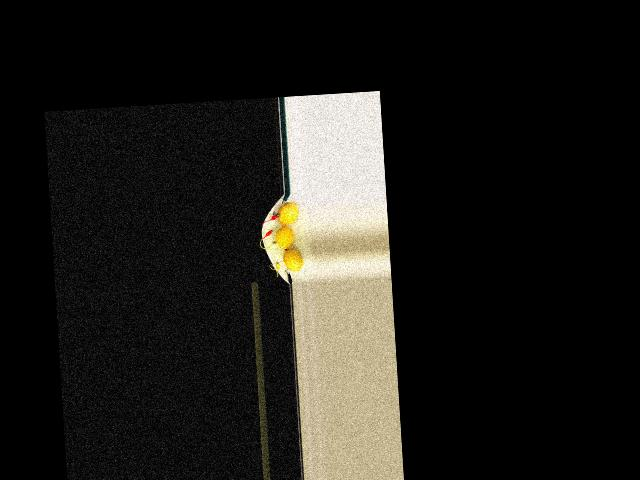lemon: (273, 201, 296, 225)
